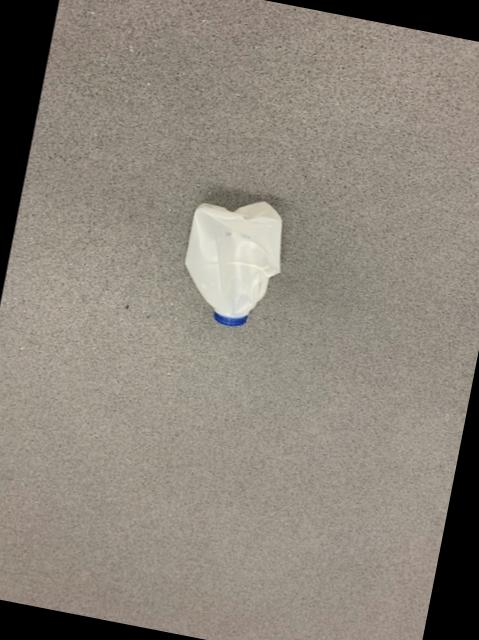plastic: (183, 202, 279, 325)
